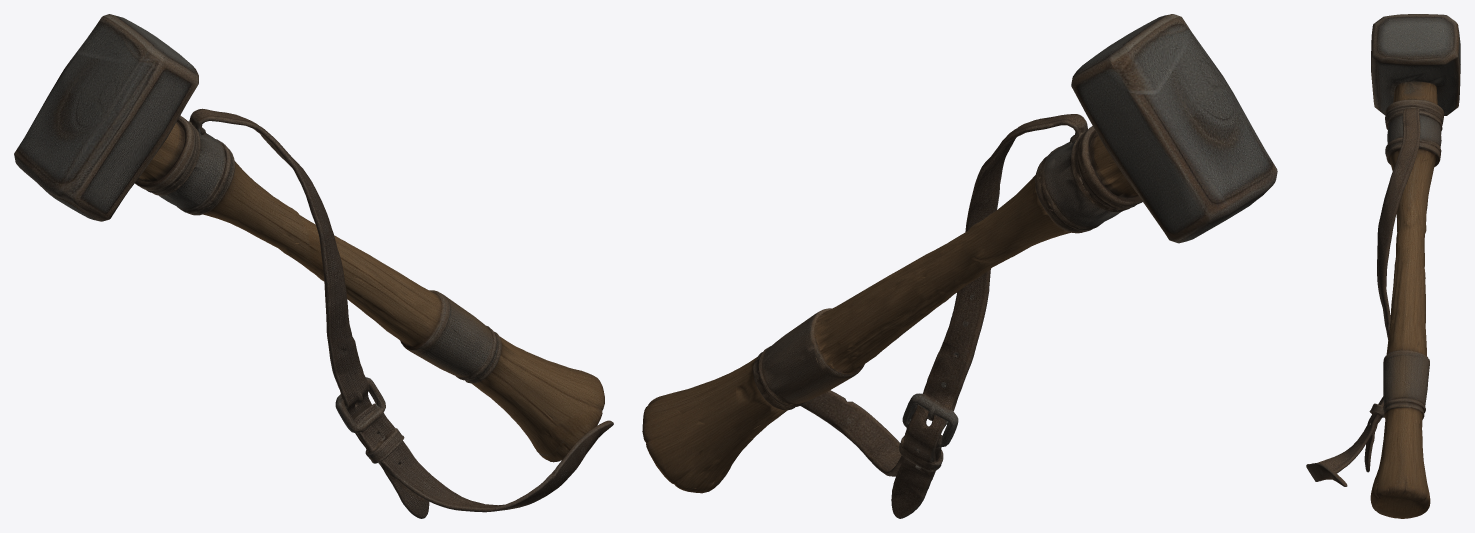
The model's file is hammer.glb.
The picture shows the model from 3 angles, left to right: view 1: azimuth 30°, elevation 25°; view 2: azimuth 150°, elevation 25°; view 3: azimuth 270°, elevation 25°; orthographic projection. The views are drawn at different scales.
Visible parts, largest first — view 1: mesh_node; view 2: mesh_node; view 3: mesh_node.
Boxes of the visible parts, left/top/right/bottom form: mesh_node: left=14, top=14, right=613, bottom=518; mesh_node: left=642, top=14, right=1277, bottom=518; mesh_node: left=1306, top=14, right=1460, bottom=518.
Size of the model in its own units: 0.7687 by 0.7 by 0.2661.
Materials: 1 (1 with a texture image).
